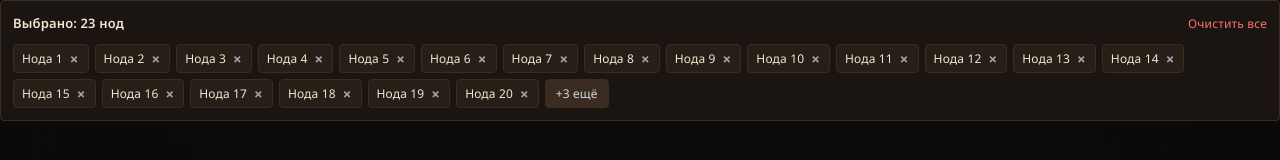
Test: AtlasSelectedBasket — iter 183 › cap & expander › clicking «+N ещё» reveals all chips + «свернуть» button
Note: Click the expander.
Click the button with aria-label "Развернуть оставшиеся 3" at (577, 94), box [545,79,609,108]
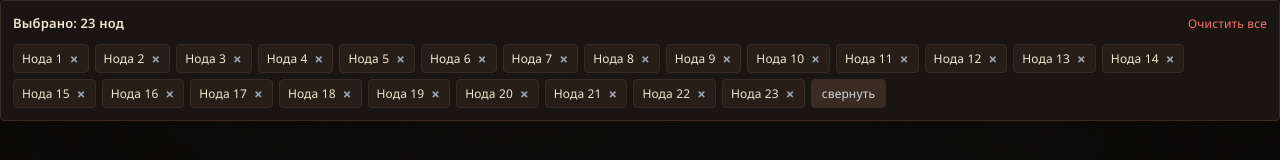
Expected: the text "Нода 23" is shown, [731,84,779,103]
Expected: the button with aria-label "Свернуть оставшиеся" is shown, [811,79,886,108]
